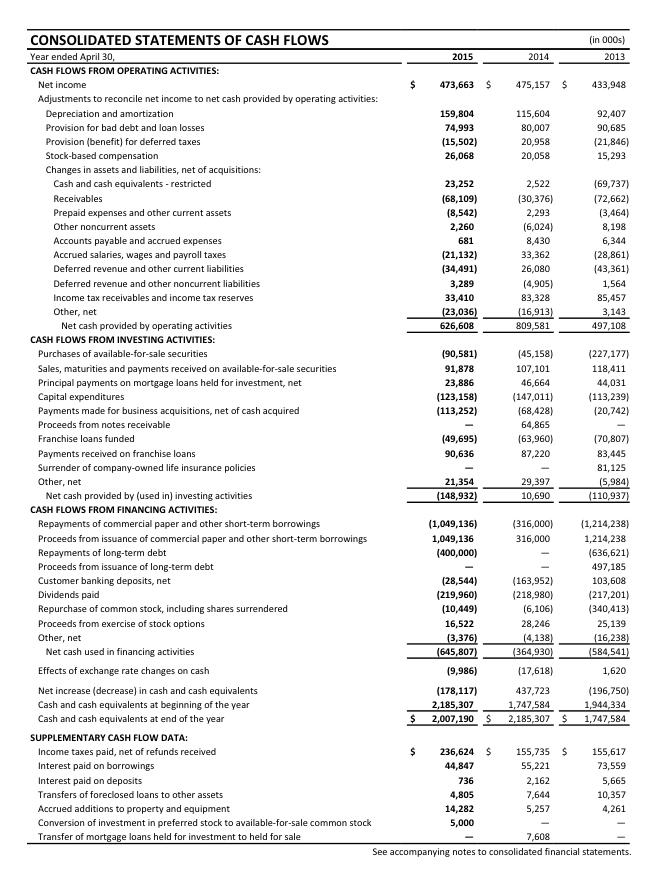table: (29, 28, 628, 841)
table column: (29, 28, 389, 841), (389, 28, 480, 841), (480, 28, 556, 841), (556, 28, 628, 841)
table column header: (29, 28, 628, 62)
table projected row header: (29, 726, 628, 743), (29, 62, 628, 76), (29, 90, 628, 104), (29, 161, 628, 175), (29, 331, 628, 345), (29, 501, 628, 515)
table row: (29, 28, 628, 62), (29, 659, 628, 678), (29, 642, 628, 659), (29, 678, 628, 695), (29, 709, 628, 726), (29, 726, 628, 743), (29, 132, 628, 147), (29, 217, 628, 232), (29, 302, 628, 317), (29, 387, 628, 402), (29, 472, 628, 487), (29, 557, 628, 572), (29, 799, 628, 814), (29, 62, 628, 76), (29, 76, 628, 90), (29, 90, 628, 104), (29, 104, 628, 118), (29, 118, 628, 132), (29, 147, 628, 161), (29, 161, 628, 175), (29, 175, 628, 189), (29, 189, 628, 203), (29, 203, 628, 217), (29, 232, 628, 246), (29, 246, 628, 260), (29, 260, 628, 274), (29, 274, 628, 288), (29, 288, 628, 302), (29, 317, 628, 331), (29, 331, 628, 345), (29, 345, 628, 359), (29, 359, 628, 373), (29, 373, 628, 387), (29, 402, 628, 416), (29, 416, 628, 430), (29, 430, 628, 444), (29, 444, 628, 458), (29, 458, 628, 472), (29, 487, 628, 501), (29, 501, 628, 515), (29, 515, 628, 529), (29, 529, 628, 543), (29, 543, 628, 557), (29, 572, 628, 586), (29, 586, 628, 600), (29, 600, 628, 614), (29, 614, 628, 628), (29, 628, 628, 642), (29, 695, 628, 709), (29, 743, 628, 757), (29, 757, 628, 771), (29, 771, 628, 785), (29, 785, 628, 799), (29, 814, 628, 828), (29, 828, 628, 841)
